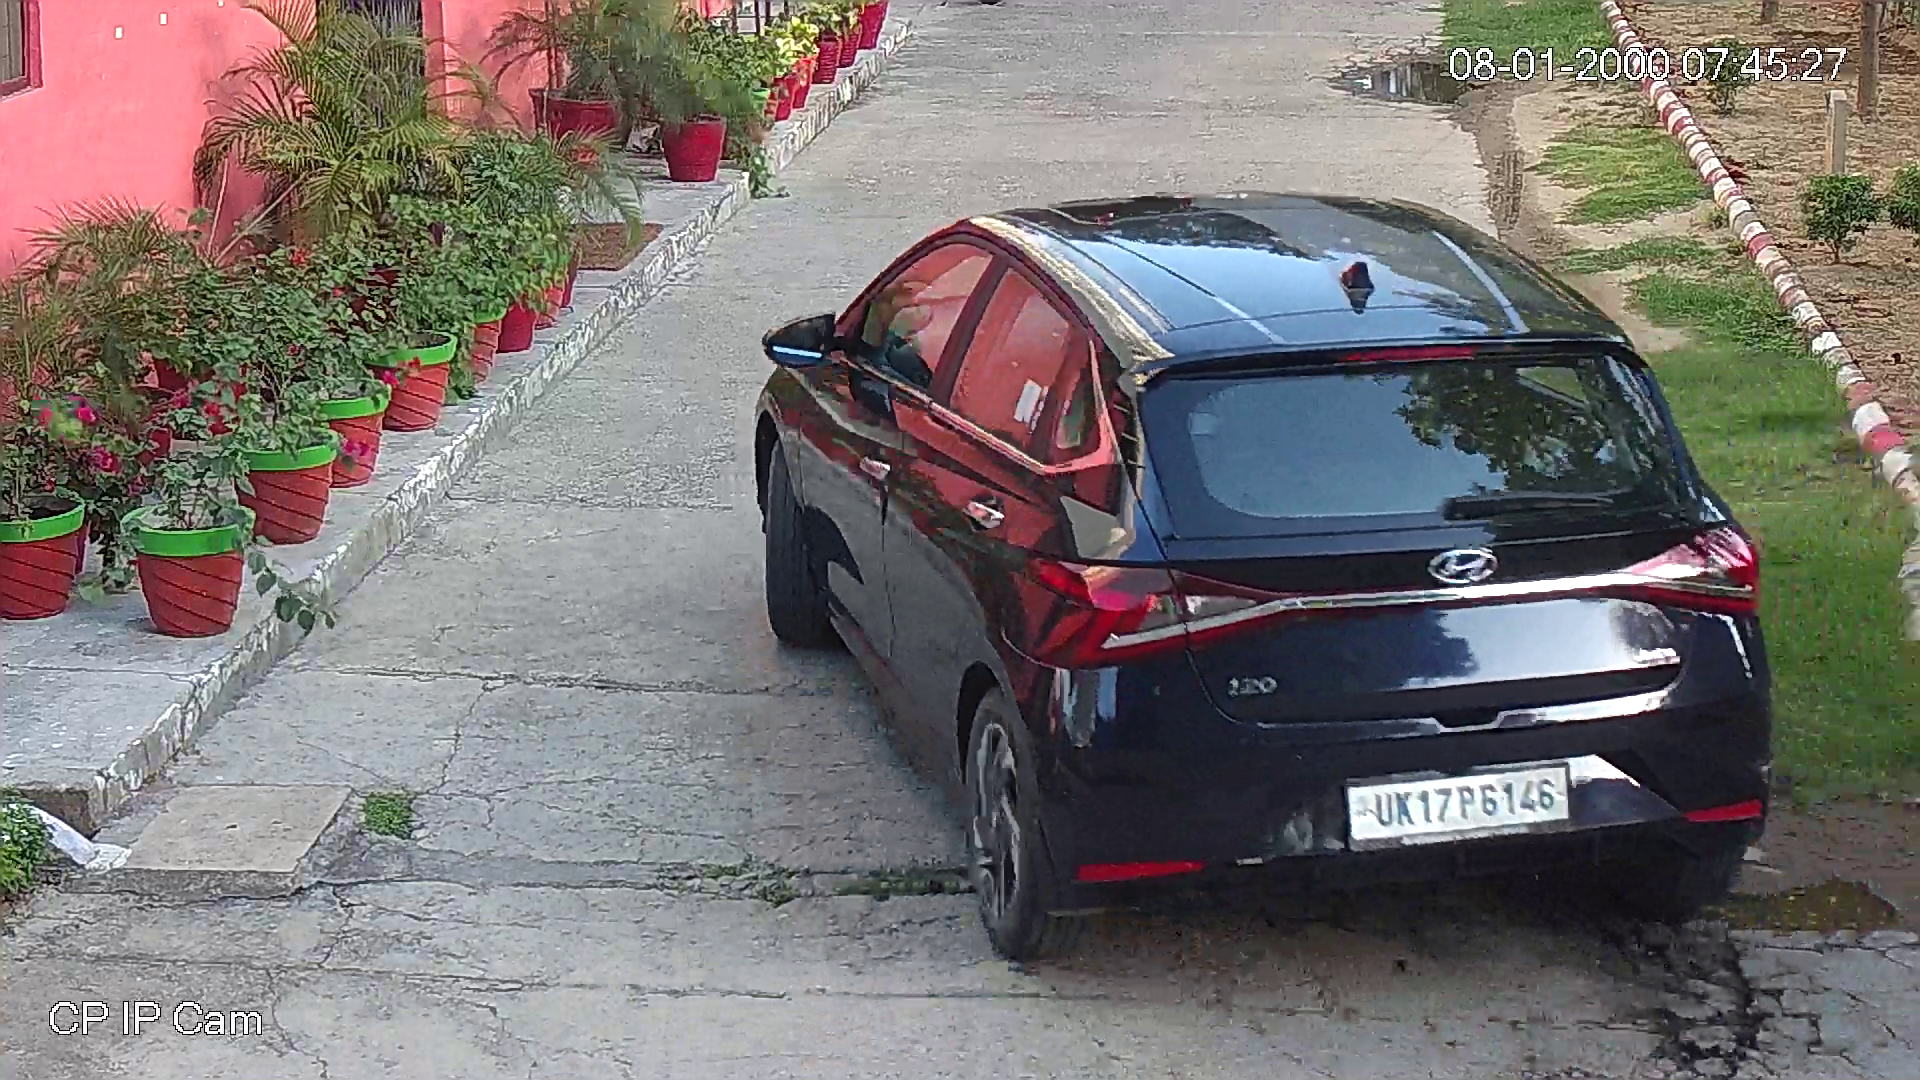plate: (1342, 759, 1579, 850)
